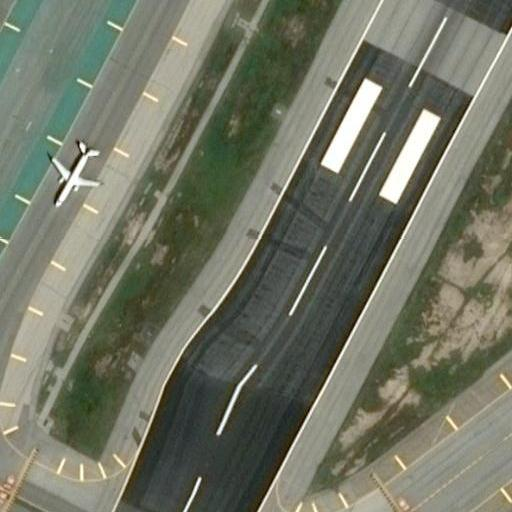Aircraft: (39, 135, 105, 201)
